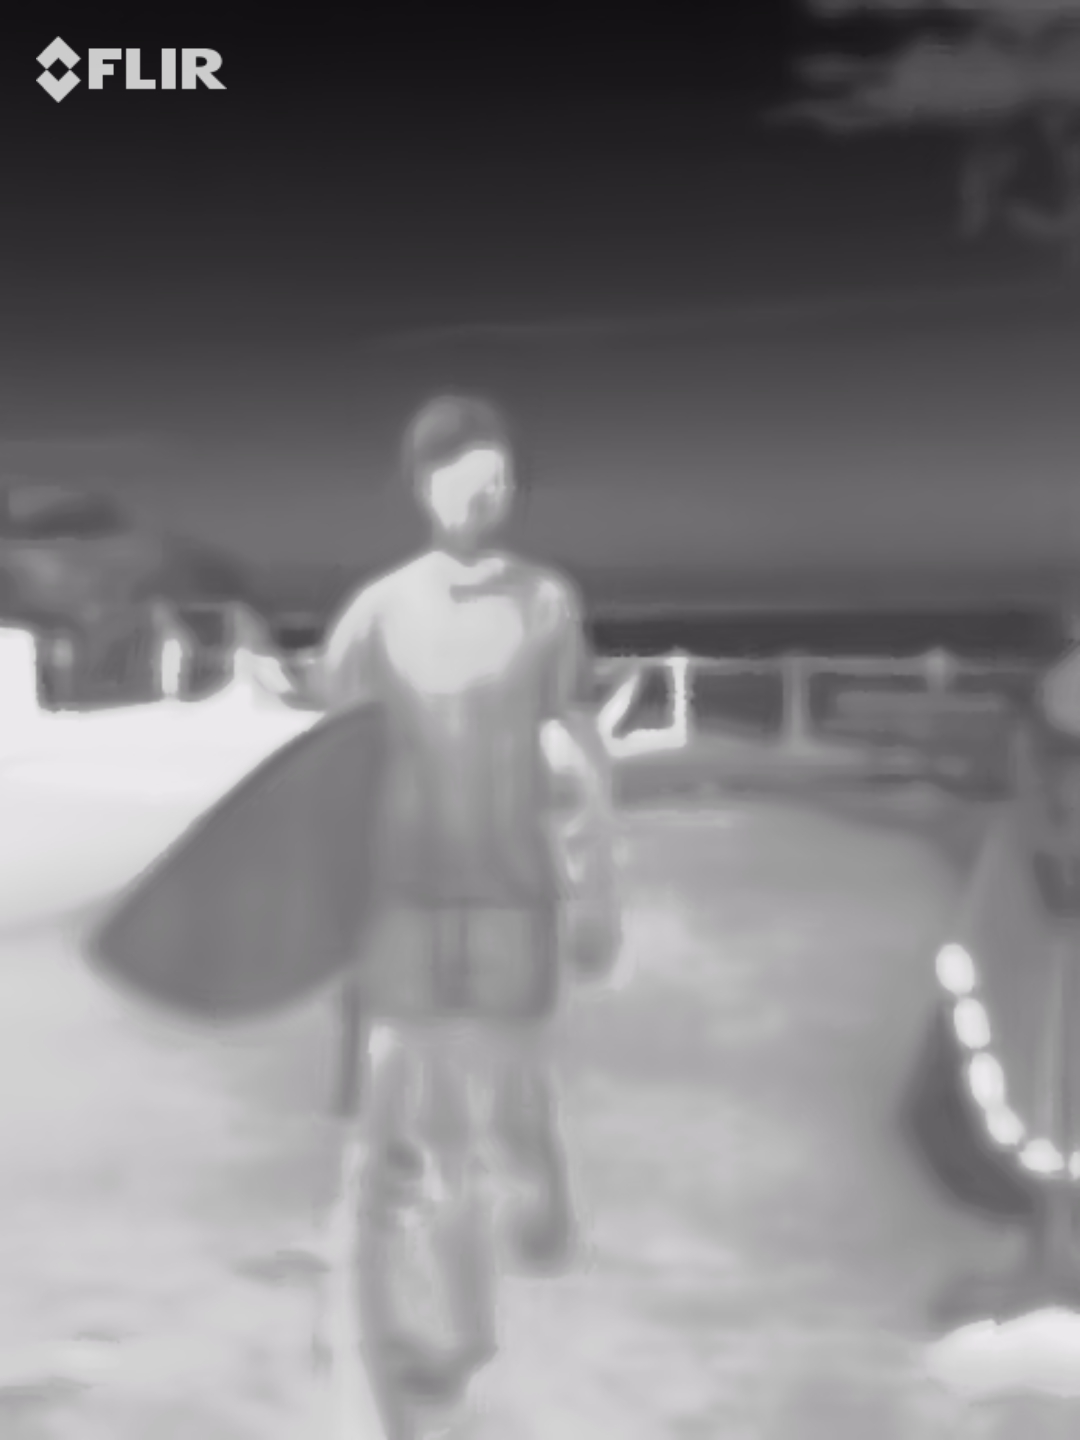head: (389, 394, 524, 560)
